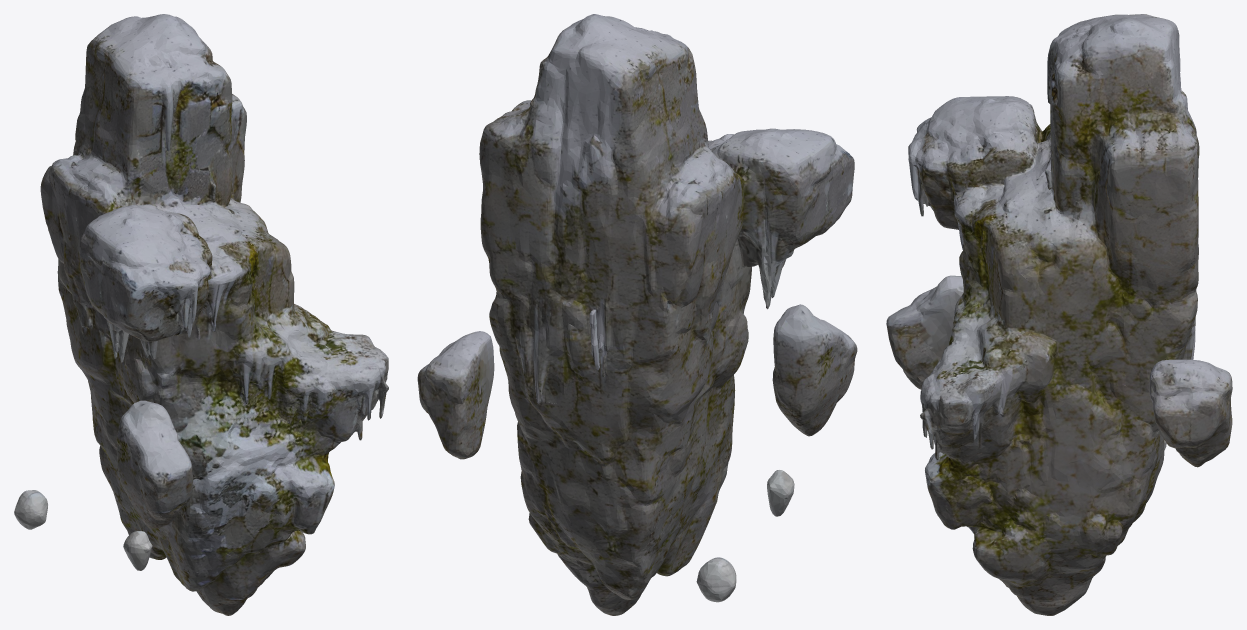
Rendered from snow-sky-rock-1.glb.
3 views of the same model, side by side, from view 1: azimuth 30°, elevation 25°; view 2: azimuth 150°, elevation 25°; view 3: azimuth 270°, elevation 25° (orthographic). The views are drawn at different scales.
Visible parts, largest first — view 1: textured_mesh.obj; view 2: textured_mesh.obj; view 3: textured_mesh.obj.
Boxes of the visible parts, box(x1,y1,x2,y2) form: textured_mesh.obj: box(14, 14, 388, 615); textured_mesh.obj: box(417, 14, 857, 615); textured_mesh.obj: box(886, 14, 1232, 615).
Size of the model in its own units: 0.9985 by 1.99 by 1.07.
Materials: 1 (1 with a texture image).
